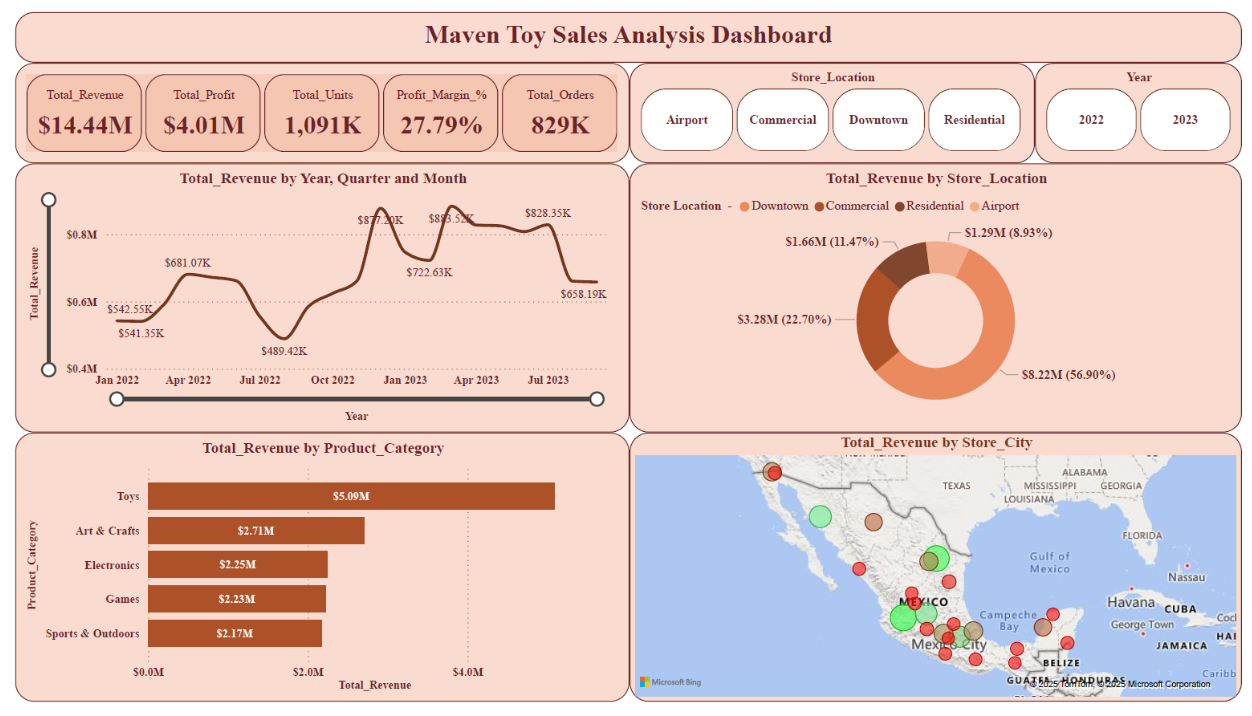

What the dashboard file says about the page in this screenshot:
{"tool":"powerbi","page":{"name":"Revenue_Analysis_Dashboard","canvas":[1280,720],"ordinal":0},"visuals":[{"type":"textbox","box":[0,0,1280.3,52.6],"z":0},{"type":"lineChart","fields":{"Category":["sales.Date.Variation.Date Hierarchy.Year","sales.Date.Variation.Date Hierarchy.Quarter","sales.Date.Variation.Date Hierarchy.Month","sales.Date.Variation.Date Hierarchy.Day"],"Y":["Measure.Total_Revenue"]},"box":[0,157.7,640.8,281.3],"z":1000},{"type":"cardVisual","fields":{"Data":["Measure.Total_Revenue","Measure.Total_Profit","Measure.Total_Units_Sales","Measure.Profit_Margin_%","Measure.Order_Count"]},"box":[0,52.6,640.8,105.2],"z":2000},{"type":"advancedSlicerVisual","fields":{"Values":["sales.Year"]},"box":[1063.9,52.6,216.4,105.2],"z":3000},{"type":"clusteredBarChart","fields":{"Category":["products.Product_Category"],"Y":["Measure.Total_Revenue"]},"box":[0,439,640.8,281.3],"z":4000},{"type":"donutChart","fields":{"Category":["stores.Store_Location"],"Y":["Measure.Total_Revenue"]},"box":[640.8,157.7,639.5,281.3],"z":5000},{"type":"advancedSlicerVisual","fields":{"Values":["stores.Store_Location"]},"box":[640.8,52.6,423.1,105.2],"z":6000},{"type":"map","fields":{"Category":["stores.Store_City"],"Size":["Measure.Total_Revenue"]},"box":[640.8,439,639.5,281.3],"z":7000}]}

Visuals, with their boxes in screenshot pixels (x1, y1, x2, y2), scaled from the page's 1280x720 canvas onto the 1252x716 screenshot:
textbox: left=0, top=0, right=1251, bottom=52
lineChart - sales.Date.Variation.Date Hierarchy.Year x sales.Date.Variation.Date Hierarchy.Quarter: left=0, top=157, right=627, bottom=437
cardVisual - Measure.Total_Revenue x Measure.Total_Profit: left=0, top=52, right=627, bottom=157
advancedSlicerVisual - sales.Year: left=1041, top=52, right=1251, bottom=157
clusteredBarChart - products.Product_Category x Measure.Total_Revenue: left=0, top=437, right=627, bottom=715
donutChart - stores.Store_Location x Measure.Total_Revenue: left=627, top=157, right=1251, bottom=437
advancedSlicerVisual - stores.Store_Location: left=627, top=52, right=1041, bottom=157
map - stores.Store_City x Measure.Total_Revenue: left=627, top=437, right=1251, bottom=715
